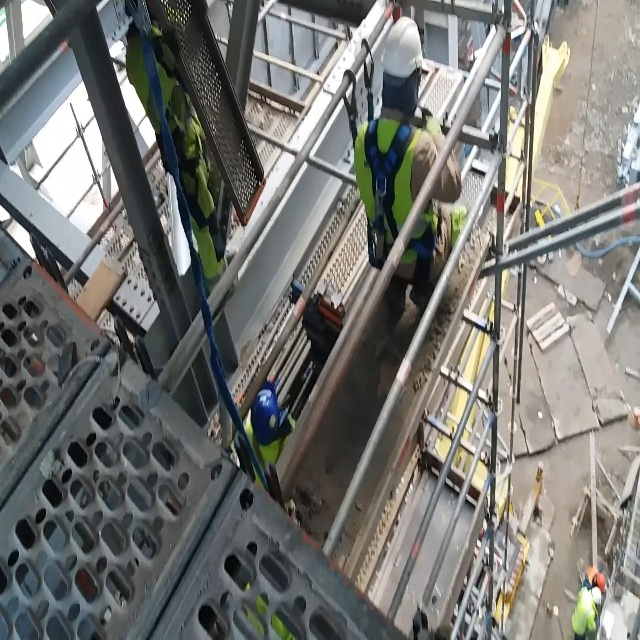Arnes_seguridad: (357, 112, 442, 287)
